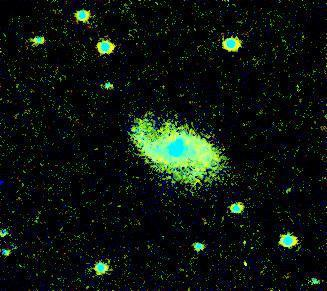star: (246, 240, 276, 270)
